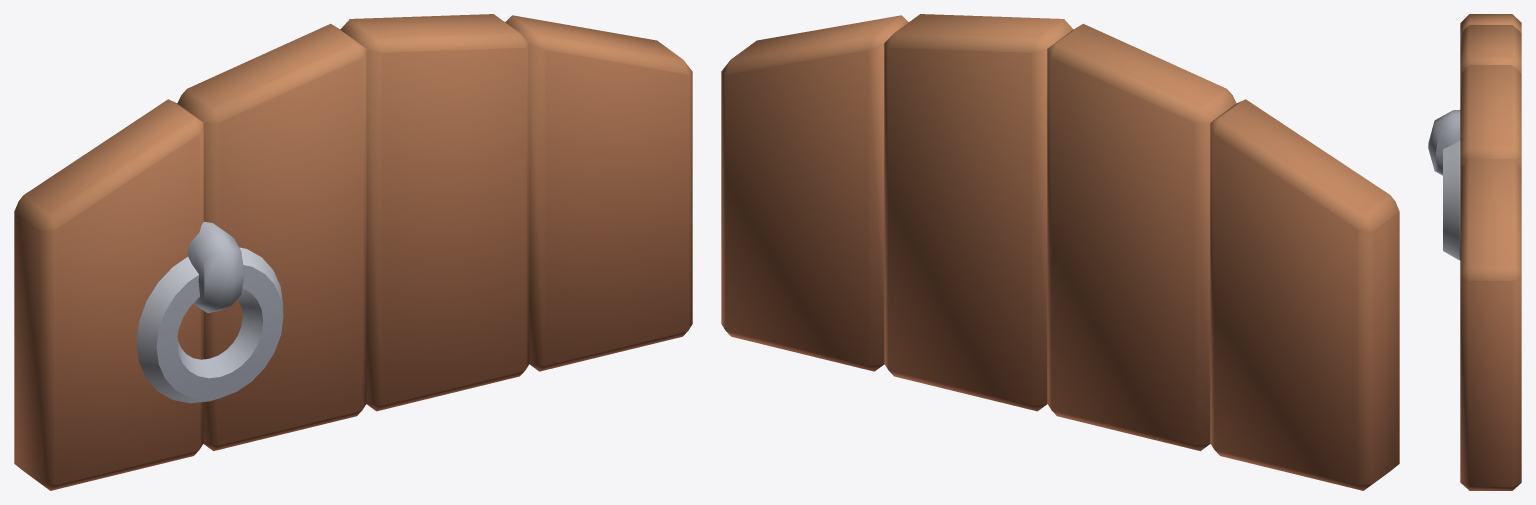
The model's file is gate_single.fbx.
3 renders of one model, left to right at view 1: azimuth 30°, elevation 25°; view 2: azimuth 150°, elevation 25°; view 3: azimuth 270°, elevation 25°, orthographic. The views are drawn at different scales.
Visible parts, largest first — view 1: gate_single; view 2: gate_single; view 3: gate_single.
Boxes of the visible parts, <box> form: gate_single: <box>14,14,692,490</box>; gate_single: <box>721,14,1399,490</box>; gate_single: <box>1428,14,1521,490</box>.
Size of the model in its own units: 200 by 109 by 30.51.
